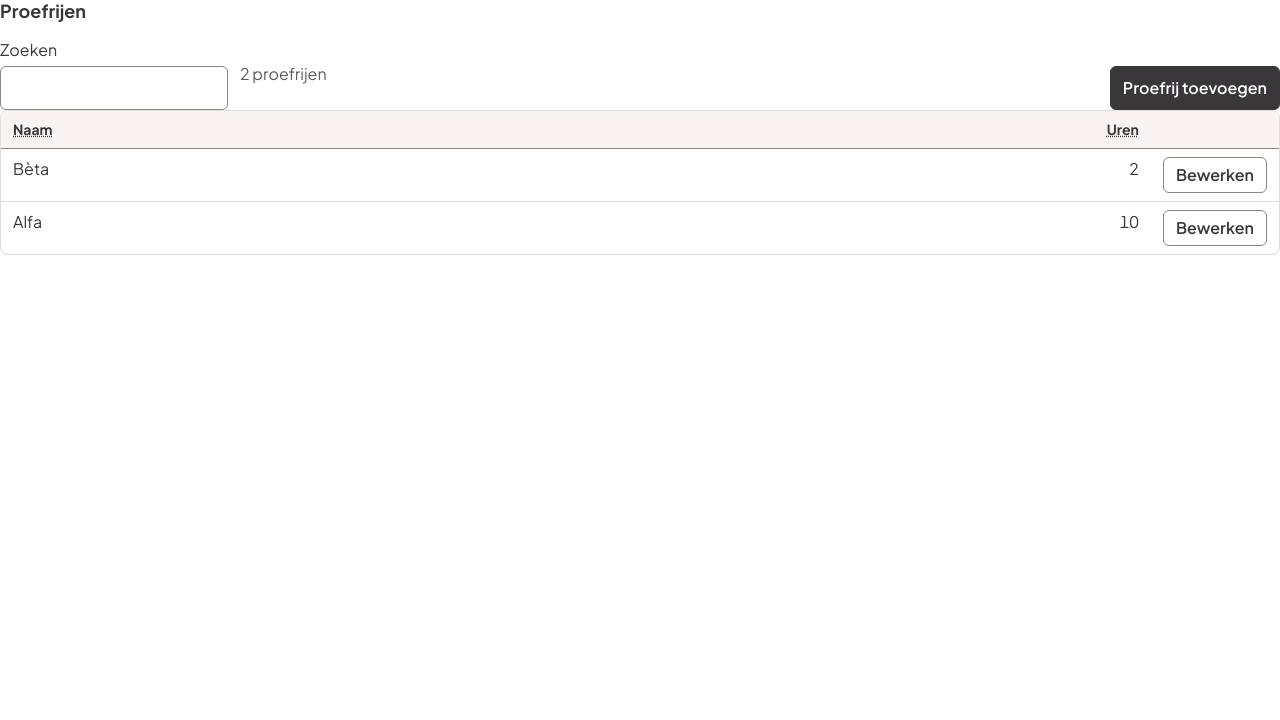
Test case: BeheerScherm: zijpaneel › een databasefout wordt vertaald getoond in het paneel
Check: the text "Alfa" is shown, box [1,201,611,254]
Step 1. Click the button with aria-label "Bewerken: Alfa" → point(1215, 228), box [1163,210,1267,246]
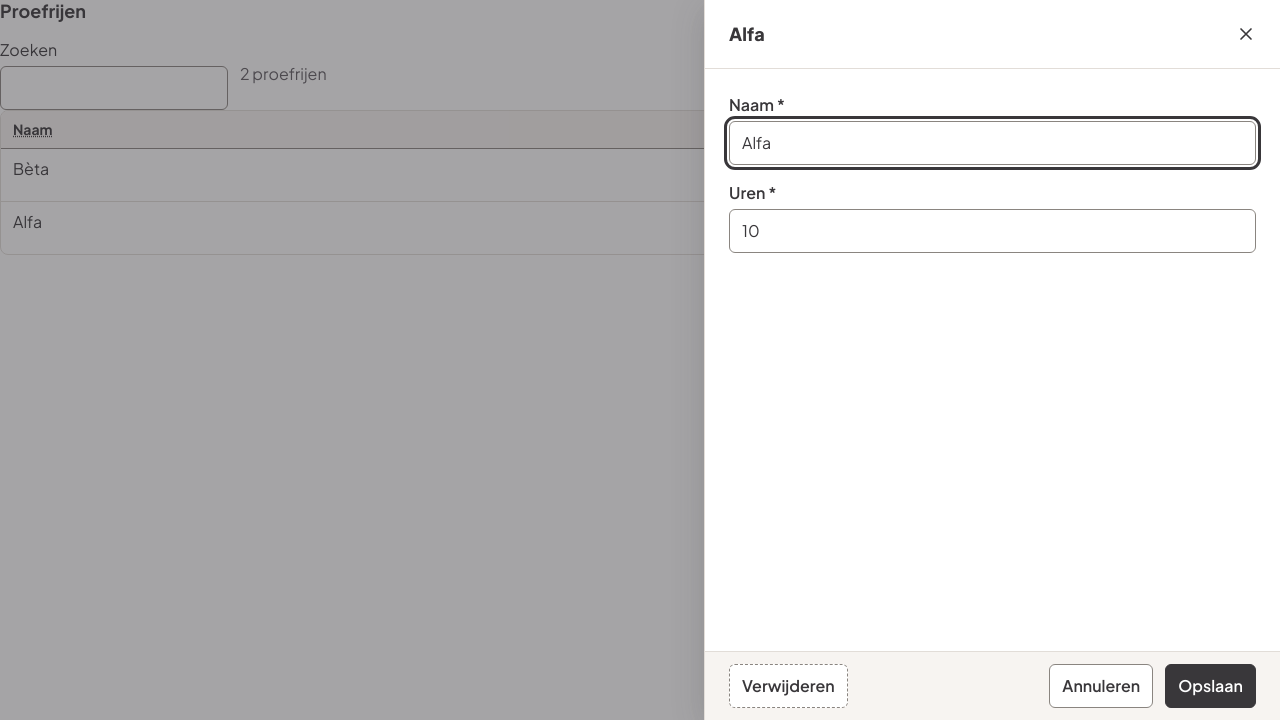
Step 2. Click the button "Opslaan" → point(1211, 686), box [1165,664,1256,708]
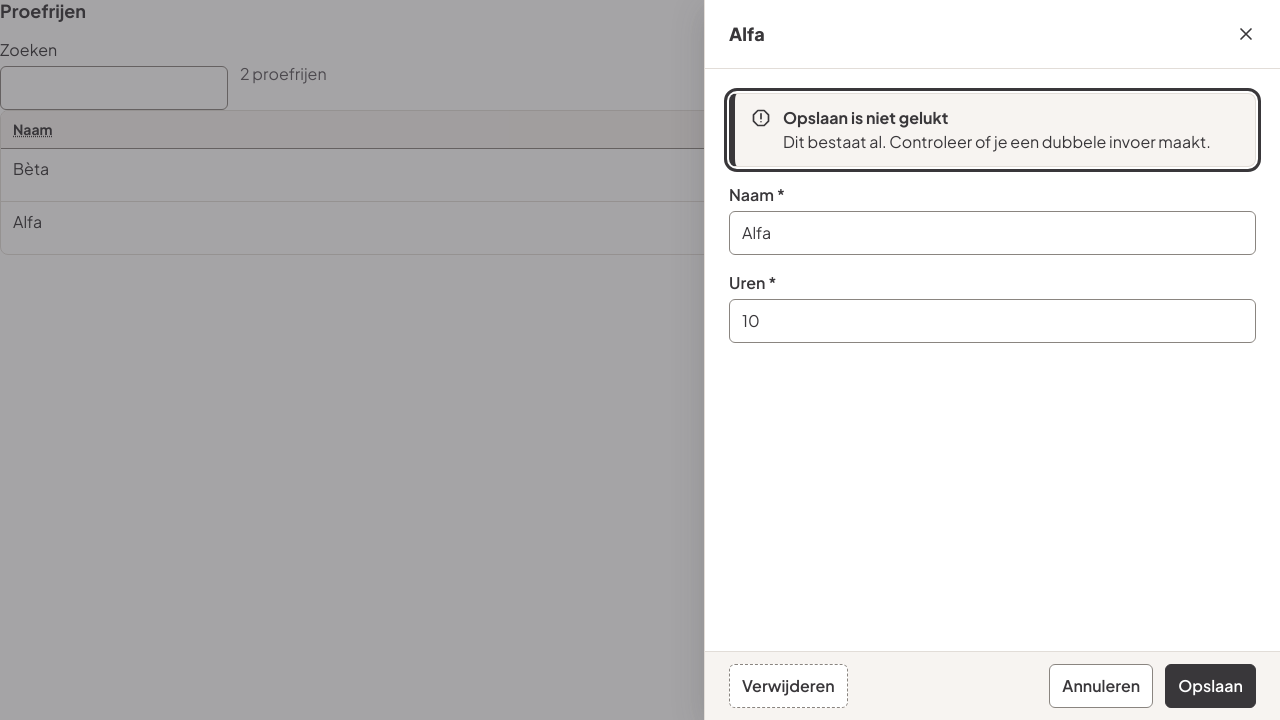
Check: the message shows "bestaat al", box [783,131,1211,152]
